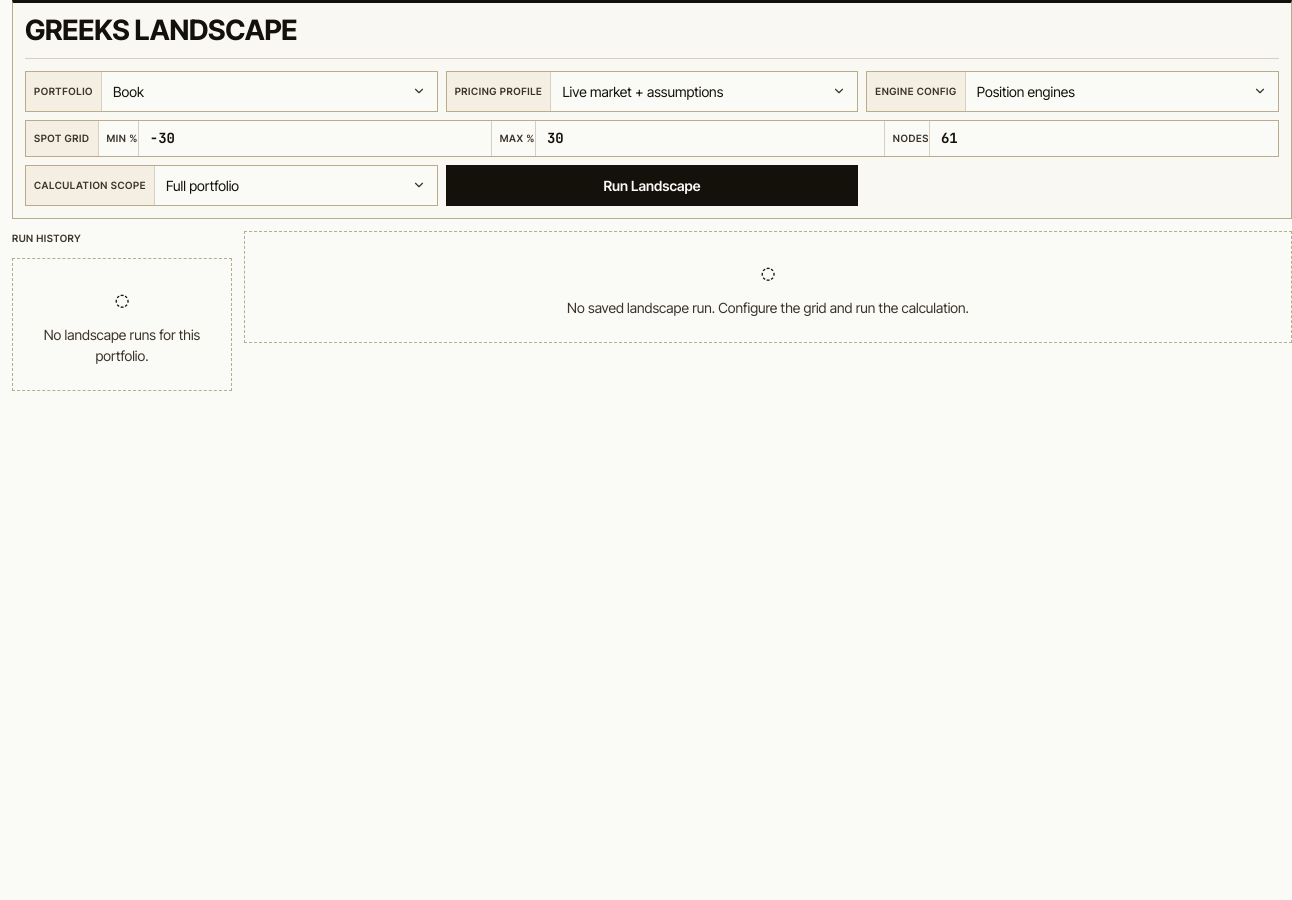
Scenario: GreeksLandscapeLive › polls a queued landscape task and loads the completed run
Click the button "Run Landscape": (652, 185) top-left (446, 165), bottom-right (858, 206)
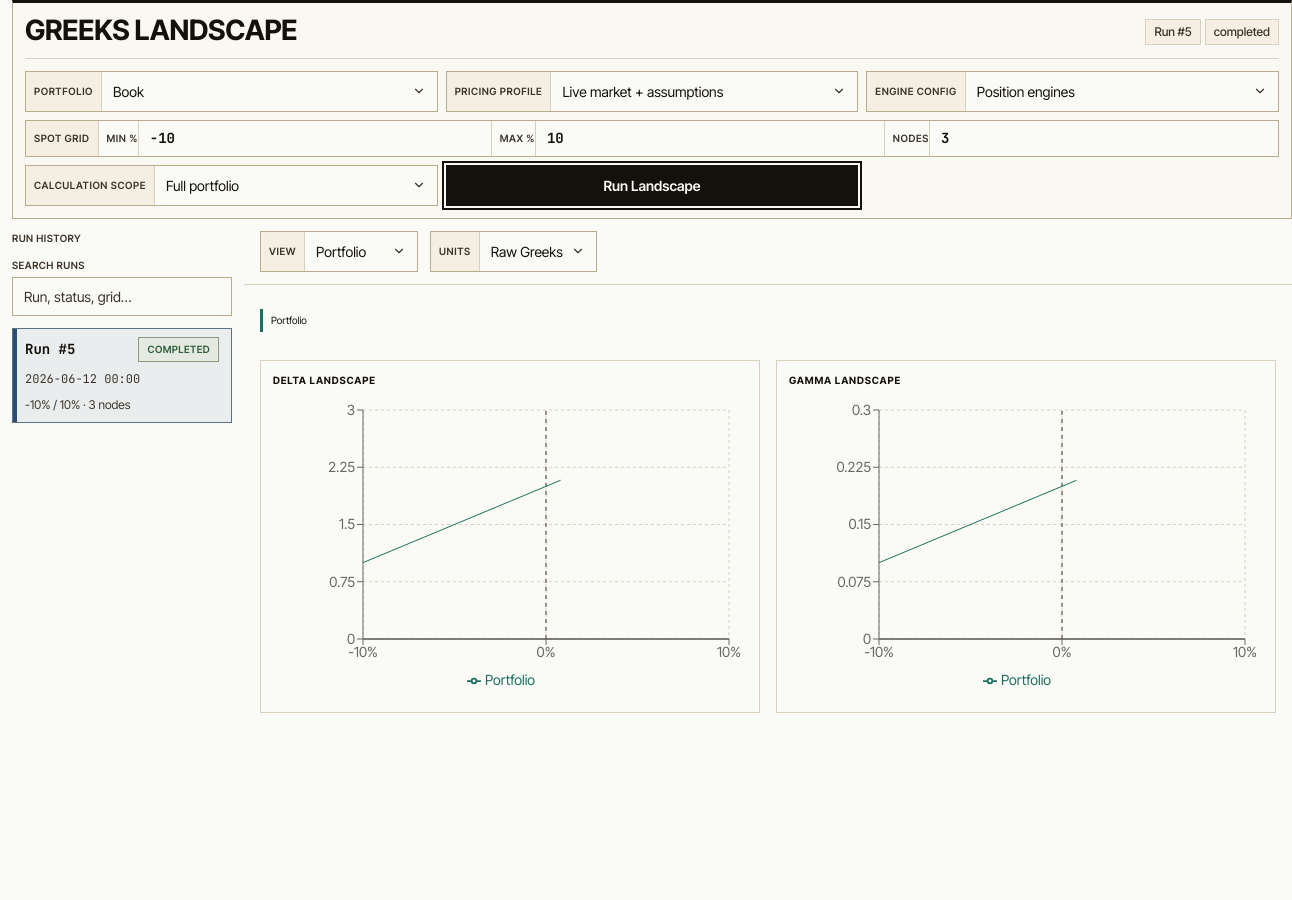
Now the button "Run #5 completed 2026-06-12 00:00 -10% / 10% · 3 nodes" is shown, box top-left (12, 328), bottom-right (232, 423)
